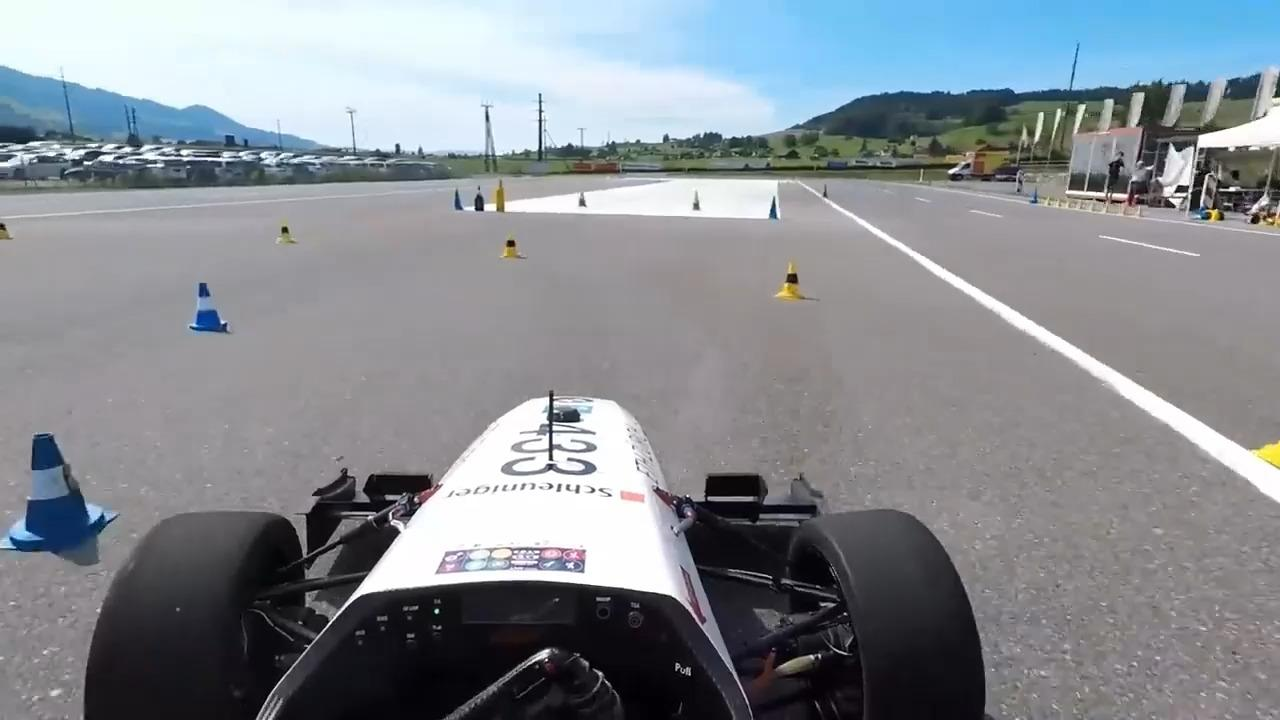blue_cone: (0, 433, 122, 553), (188, 283, 229, 331)
yellow_cone: (775, 261, 808, 300), (501, 231, 526, 260), (275, 218, 297, 245)
